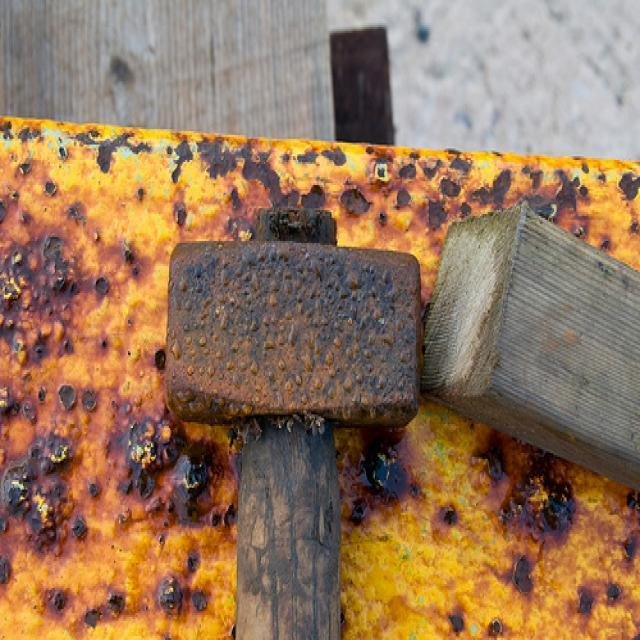hammer: (145, 193, 439, 640)
